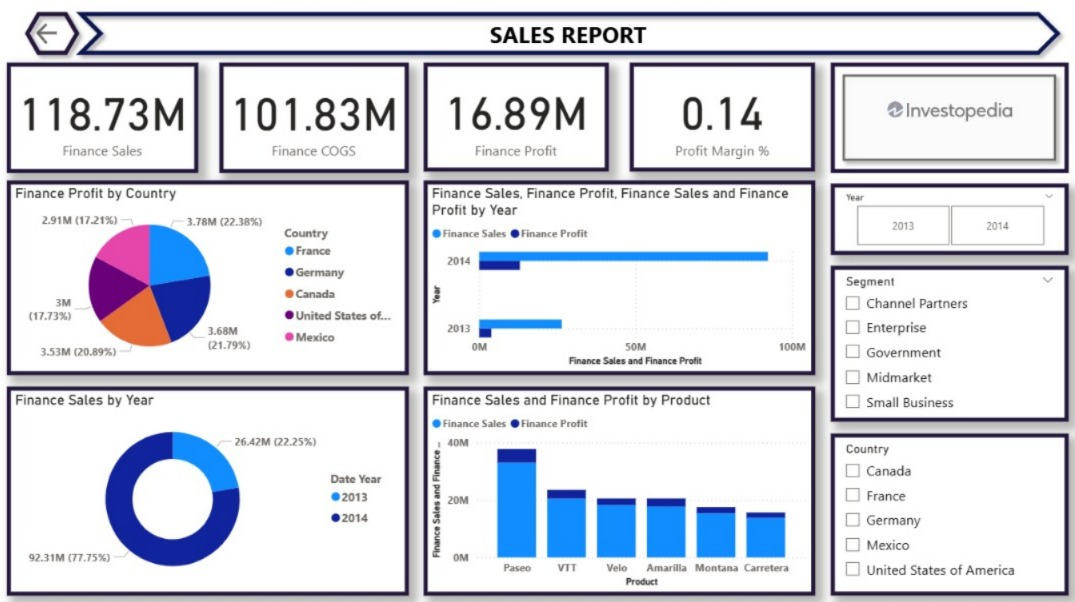

Layout of this report page (visuals, bound fields, positions):
{"tool":"powerbi","page":{"name":"Q9","canvas":[1280,720],"ordinal":1},"visuals":[{"type":"card","fields":{"Values":["Sheet1.Finance Sales"]},"box":[23.2,85.6,225,129.6],"z":0},{"type":"card","fields":{"Values":["Sheet1.Finance COGS"]},"box":[272.7,85.6,222.6,129.6],"z":1000},{"type":"card","fields":{"Values":["Sheet1.Finance Profit"]},"box":[512.4,85.6,217.7,128.4],"z":2000},{"type":"card","fields":{"Values":["Sheet1.Profit Margin %"]},"box":[754.5,85.6,217.7,128.4],"z":3000},{"type":"donutChart","fields":{"Category":["Sheet1.Date.Variation.Date Hierarchy.Year","Sheet1.Date.Variation.Date Hierarchy.Quarter","Sheet1.Date.Variation.Date Hierarchy.Month","Sheet1.Date.Variation.Date Hierarchy.Day"],"Y":["Sheet1.Finance Sales"]},"box":[23.2,465.9,472,245.8],"z":4000},{"type":"pieChart","fields":{"Category":["Sheet1.Country"],"Y":["Sheet1.Finance Profit"]},"box":[23.2,223.8,472,228.7],"z":5000},{"type":"clusteredBarChart","fields":{"Category":["Sheet1.Year"],"Y":["Sheet1.Finance Sales","Sheet1.Finance Profit"]},"box":[512.4,223.8,459.8,228.7],"z":6000},{"type":"columnChart","fields":{"Category":["Sheet1.Product"],"Y":["Sheet1.Finance Sales","Sheet1.Finance Profit"]},"box":[512.4,465.9,459.8,245.8],"z":7000},{"type":"slicer","fields":{"Values":["Sheet1.Year"]},"box":[990.5,227.4,278.8,84.4],"z":8000},{"type":"slicer","fields":{"Values":["Sheet1.Country"]},"box":[990.5,520.9,278.8,190.8],"z":9000},{"type":"slicer","fields":{"Values":["Sheet1.Segment"]},"box":[990.5,324.1,278.8,183.4],"z":10000},{"type":"actionButton","box":[35.5,17.1,81.9,68.5],"z":11000},{"type":"actionButton","box":[990.5,85.6,278.8,129.6],"z":12000},{"type":"actionButton","box":[95.4,17.1,1173.9,68.5],"z":13000}]}

Visuals, with their boxes in screenshot pixels (x1, y1, x2, y2), scaled from the page's 1280x720 canvas onto the 1075x602 screenshot:
card - Sheet1.Finance Sales: [left=19, top=72, right=208, bottom=180]
card - Sheet1.Finance COGS: [left=229, top=72, right=416, bottom=180]
card - Sheet1.Finance Profit: [left=430, top=72, right=613, bottom=179]
card - Sheet1.Profit Margin %: [left=634, top=72, right=816, bottom=179]
donutChart - Sheet1.Date.Variation.Date Hierarchy.Year x Sheet1.Date.Variation.Date Hierarchy.Quarter: [left=19, top=390, right=416, bottom=595]
pieChart - Sheet1.Country x Sheet1.Finance Profit: [left=19, top=187, right=416, bottom=378]
clusteredBarChart - Sheet1.Year x Sheet1.Finance Sales: [left=430, top=187, right=816, bottom=378]
columnChart - Sheet1.Product x Sheet1.Finance Sales: [left=430, top=390, right=816, bottom=595]
slicer - Sheet1.Year: [left=832, top=190, right=1066, bottom=261]
slicer - Sheet1.Country: [left=832, top=436, right=1066, bottom=595]
slicer - Sheet1.Segment: [left=832, top=271, right=1066, bottom=424]
actionButton: [left=30, top=14, right=99, bottom=72]
actionButton: [left=832, top=72, right=1066, bottom=180]
actionButton: [left=80, top=14, right=1066, bottom=72]
